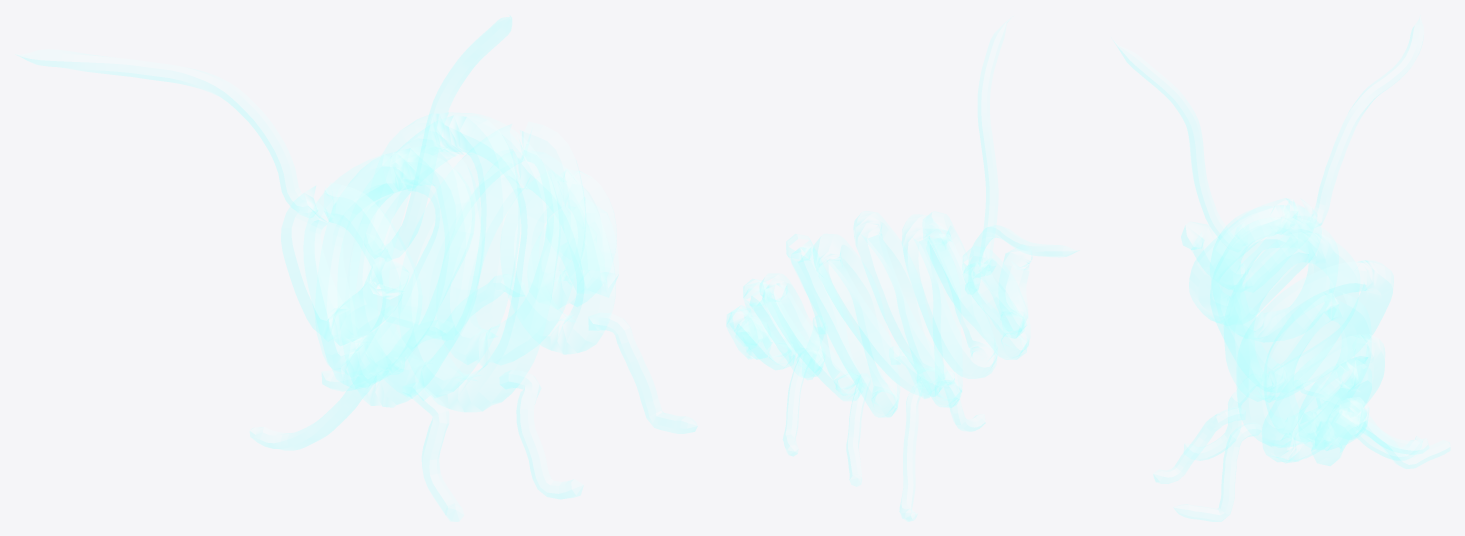
File: bug4.glb
The picture shows the model from 3 angles, left to right: view 1: azimuth 30°, elevation 25°; view 2: azimuth 150°, elevation 25°; view 3: azimuth 270°, elevation 25°; orthographic projection. The views are drawn at different scales.
Parts seen in each view (by area): view 1: Paint; view 2: Paint; view 3: Paint.
Boxes of the visible parts, left/top/right/bottom form: Paint: left=15, top=16, right=697, bottom=521; Paint: left=726, top=18, right=1079, bottom=521; Paint: left=1113, top=15, right=1450, bottom=521.
Size of the model in its own units: 0.0832 by 0.0822 by 0.058.
